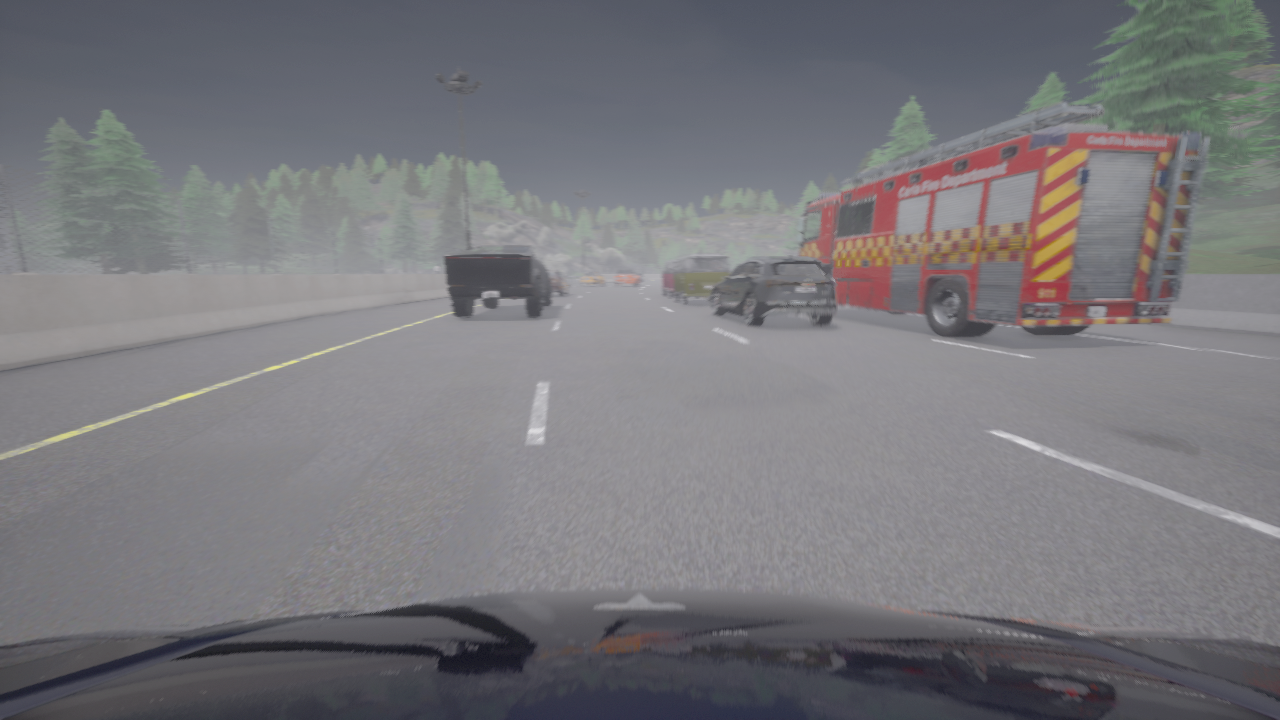cyclist: (0, 588, 1279, 719), (795, 103, 1209, 337), (710, 255, 837, 326), (445, 245, 553, 317), (672, 254, 729, 304), (661, 259, 676, 297), (549, 269, 570, 296), (615, 269, 639, 286), (580, 270, 604, 286), (636, 272, 643, 281)
